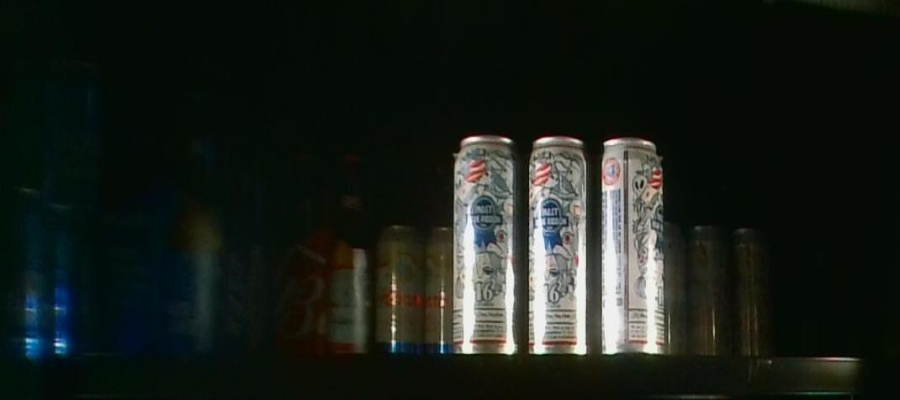bottle: (450, 132, 662, 353), (107, 113, 262, 349), (3, 61, 99, 353), (267, 134, 370, 353), (661, 226, 778, 360), (374, 222, 450, 353)
